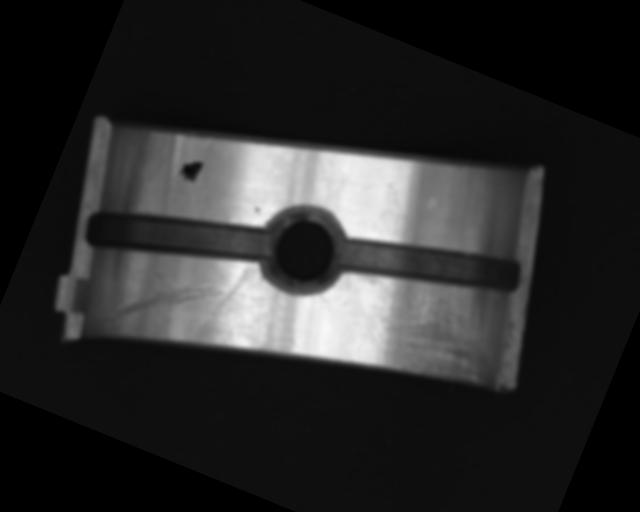blot: (176, 154, 204, 185)
bruise: (424, 196, 439, 212), (254, 205, 260, 212)
gap: (80, 165, 281, 308), (333, 198, 528, 332)
hole: (250, 195, 357, 306)
nick: (99, 245, 237, 370)
scratch: (329, 260, 514, 404)
